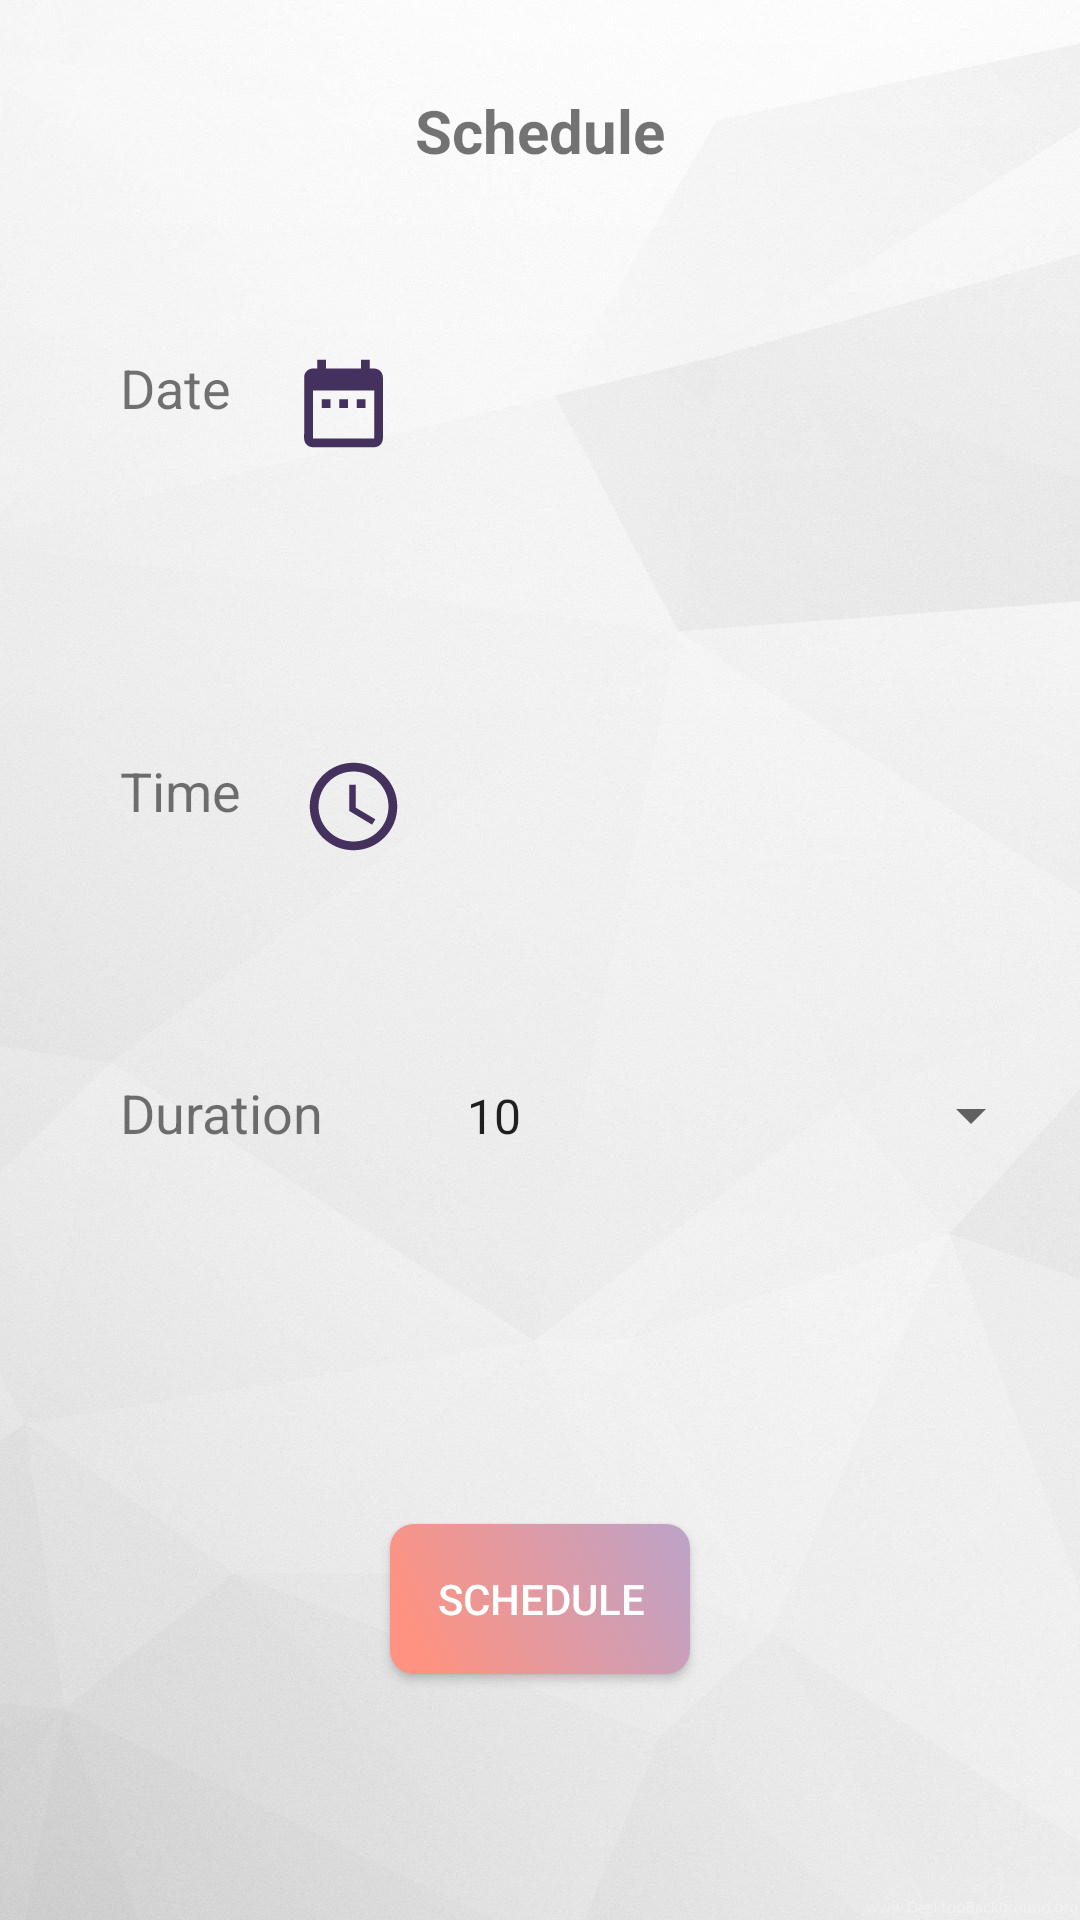

Locate icon controls on the screen. Image size 1080w x 1920h, boxes as (x1, y1, x2, y2).
schedule: (309, 762, 398, 851)
